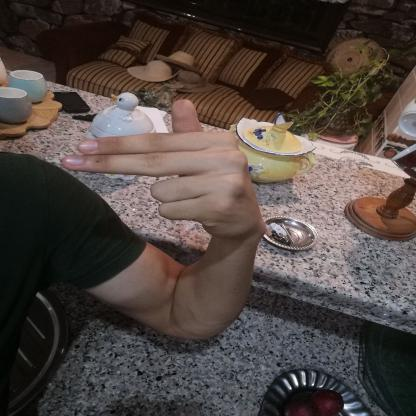GHAYN: (50, 90, 288, 264)
